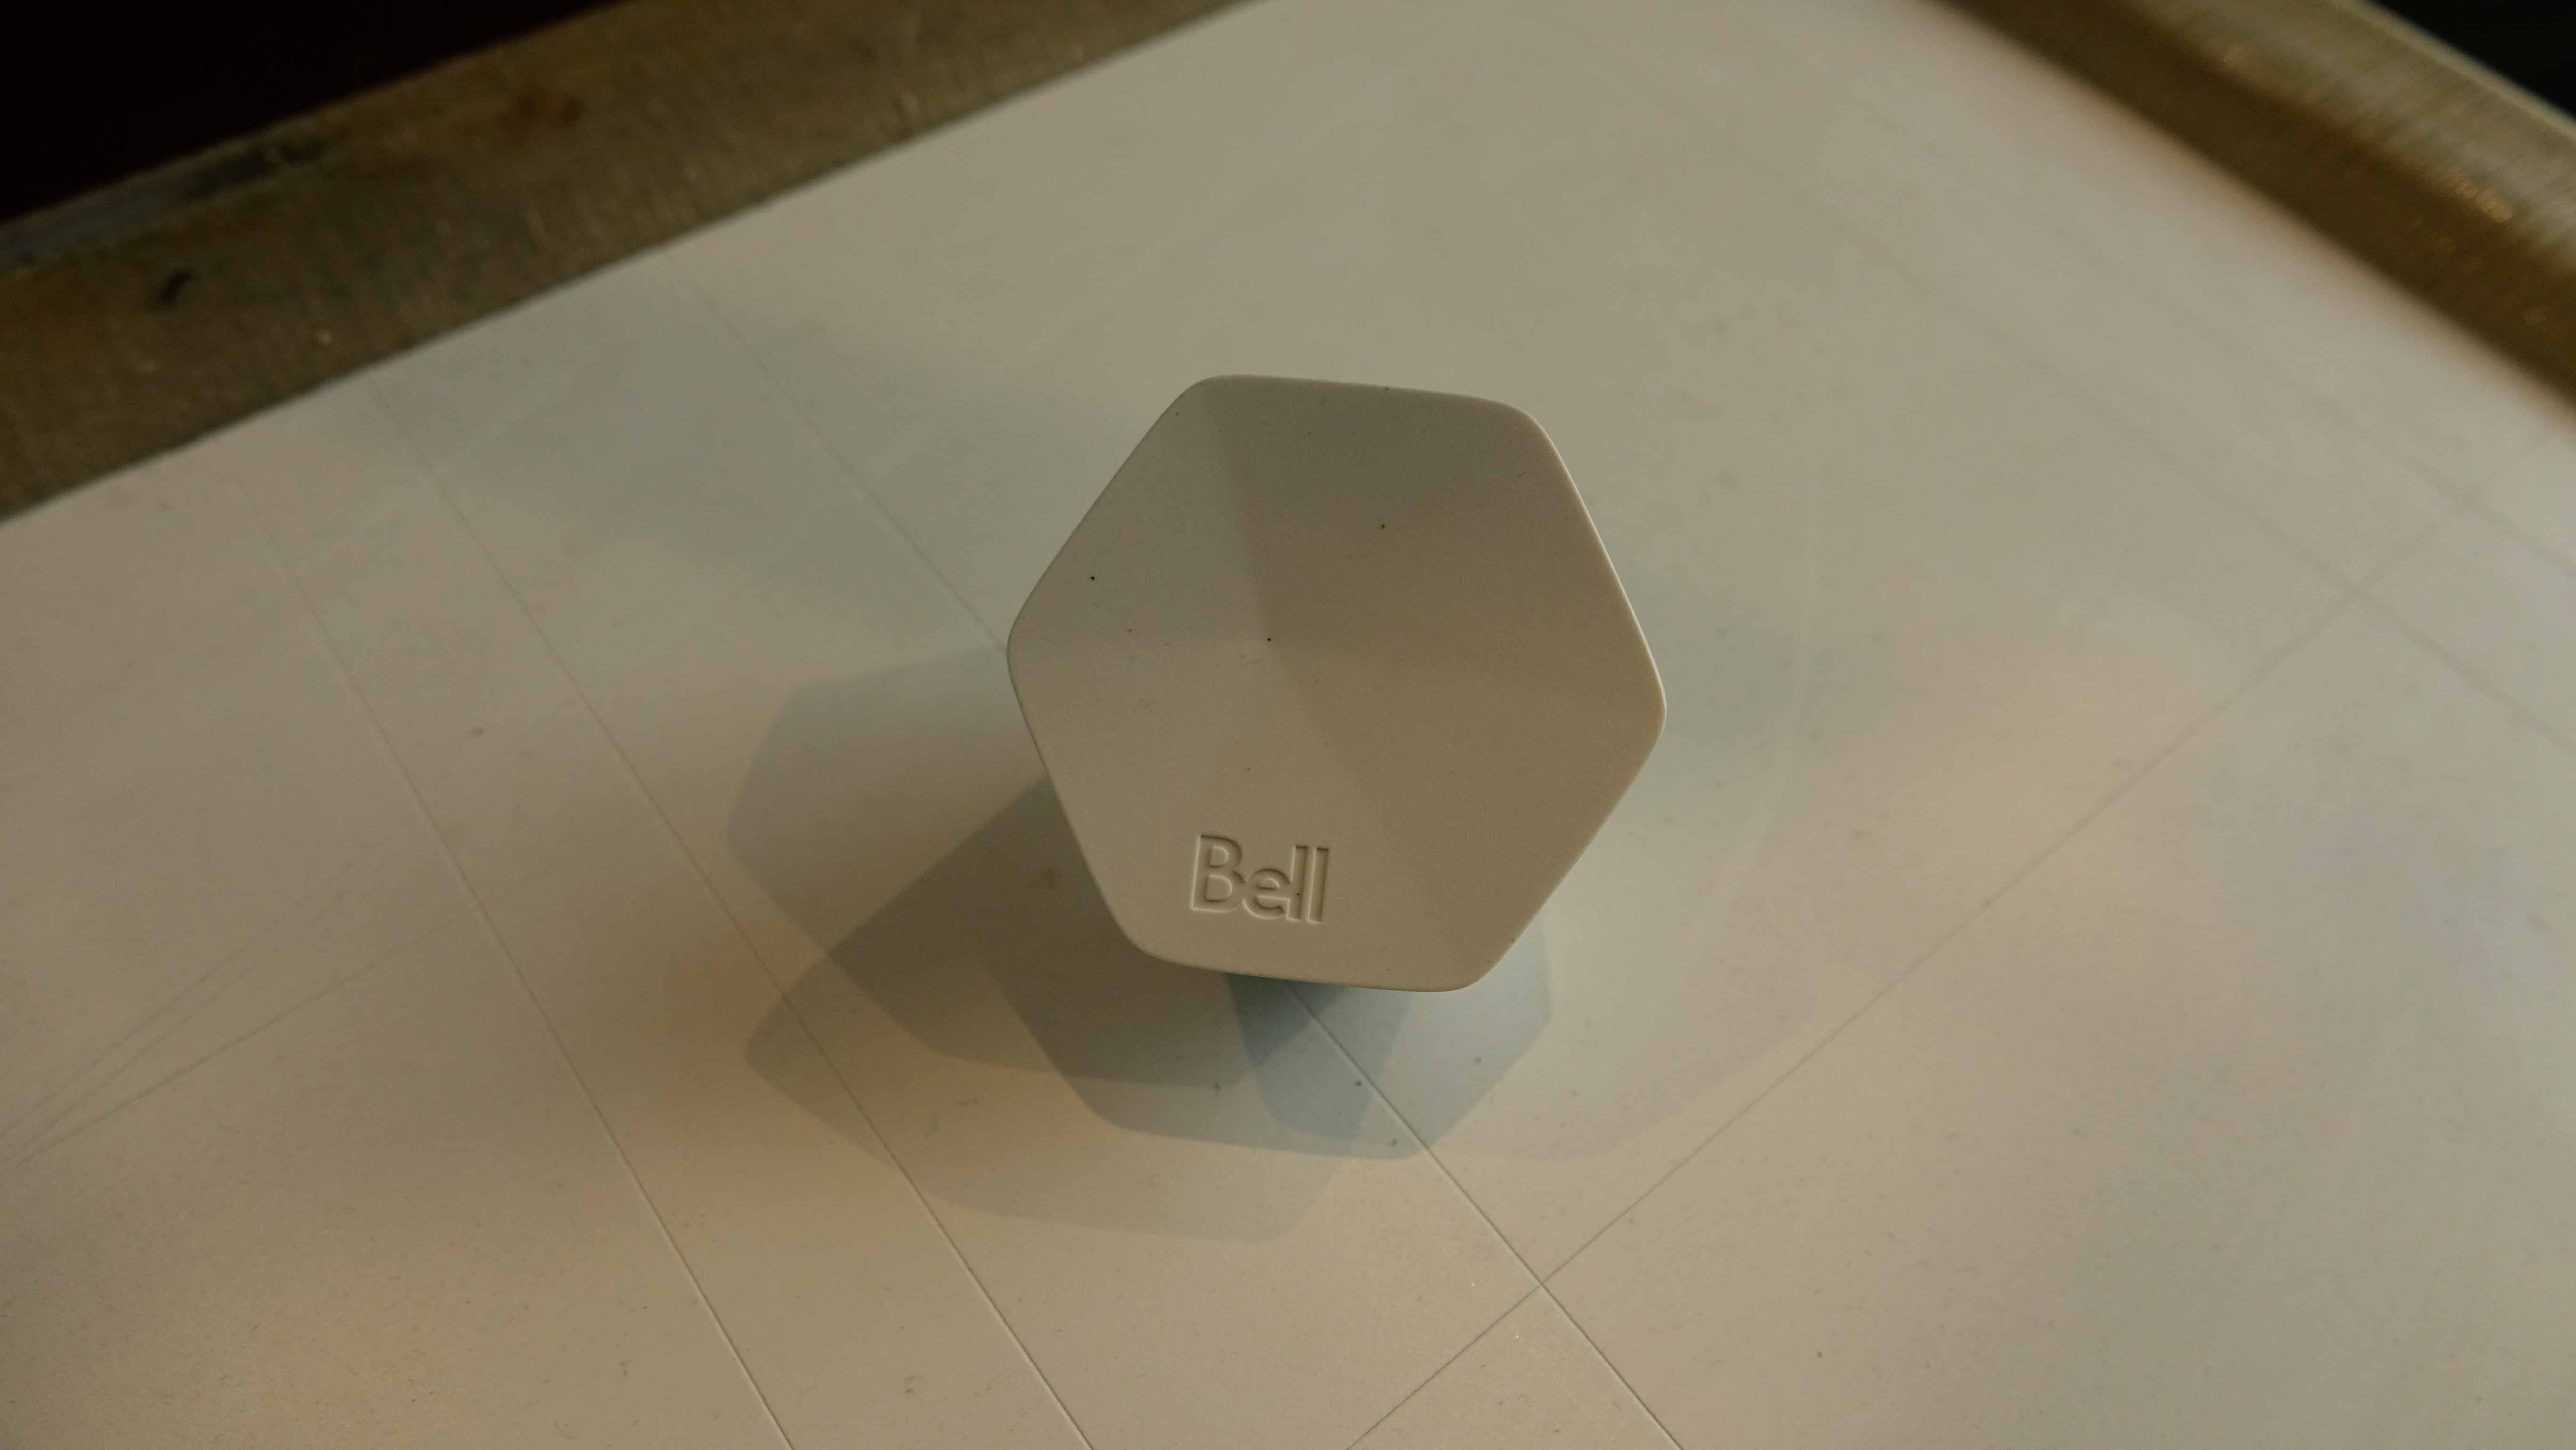pod: (989, 362, 1684, 1011)
